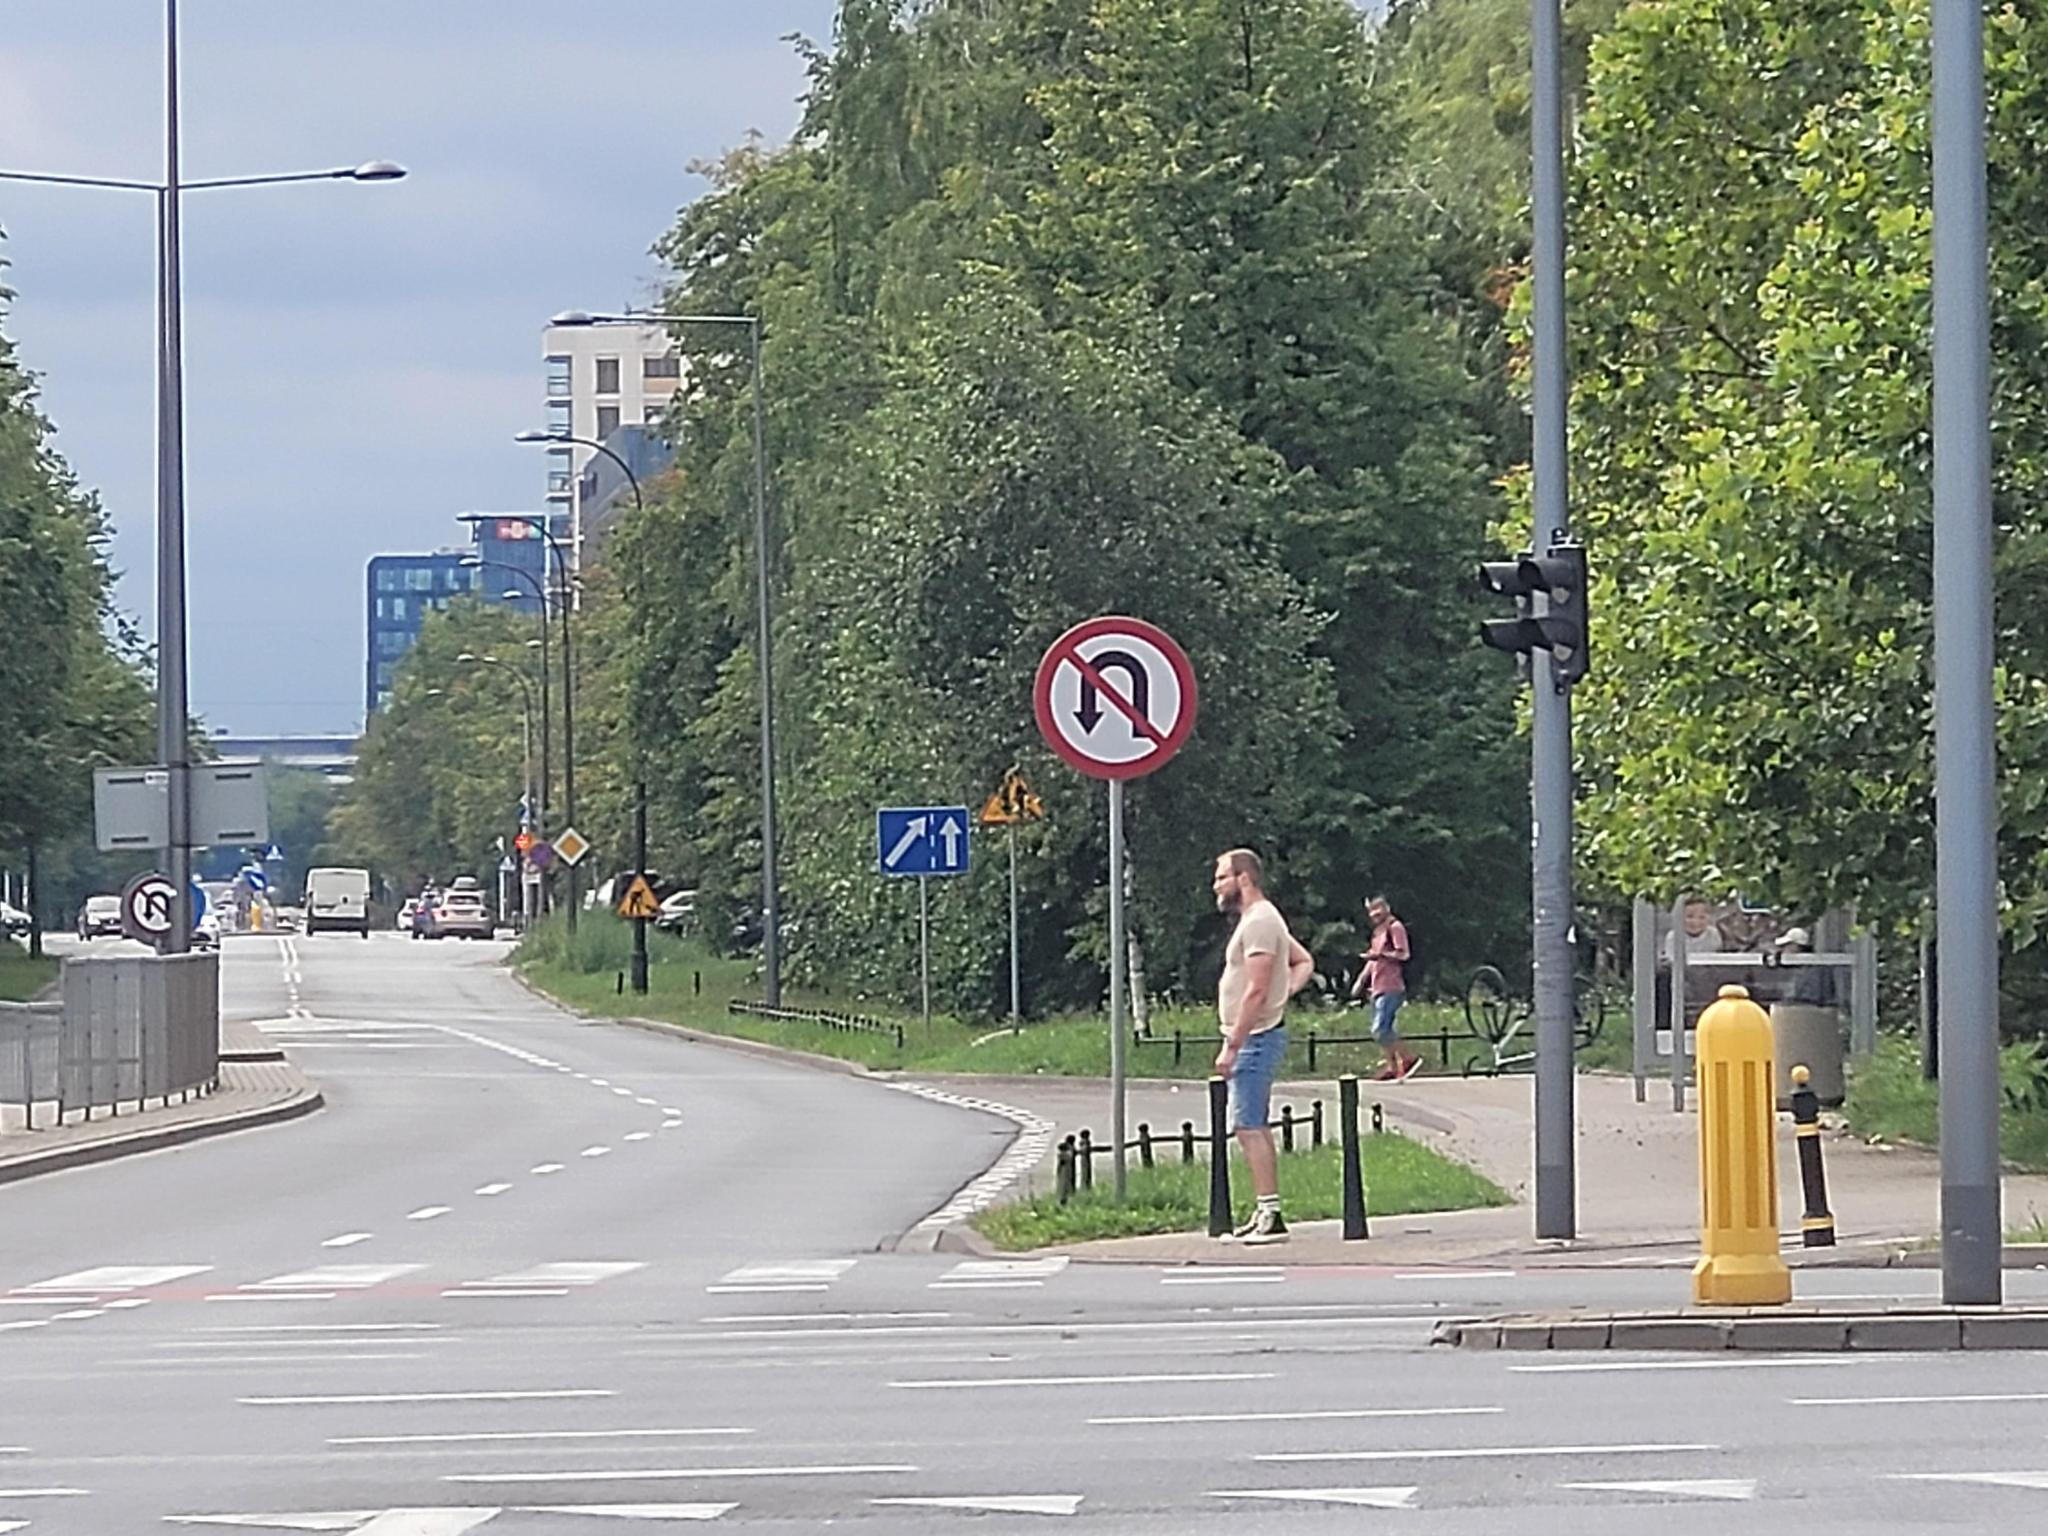information: (553, 828, 590, 866)
other: (879, 808, 966, 873)
prohibitory: (1034, 615, 1197, 781), (129, 878, 173, 936)
warning: (616, 876, 663, 918)
